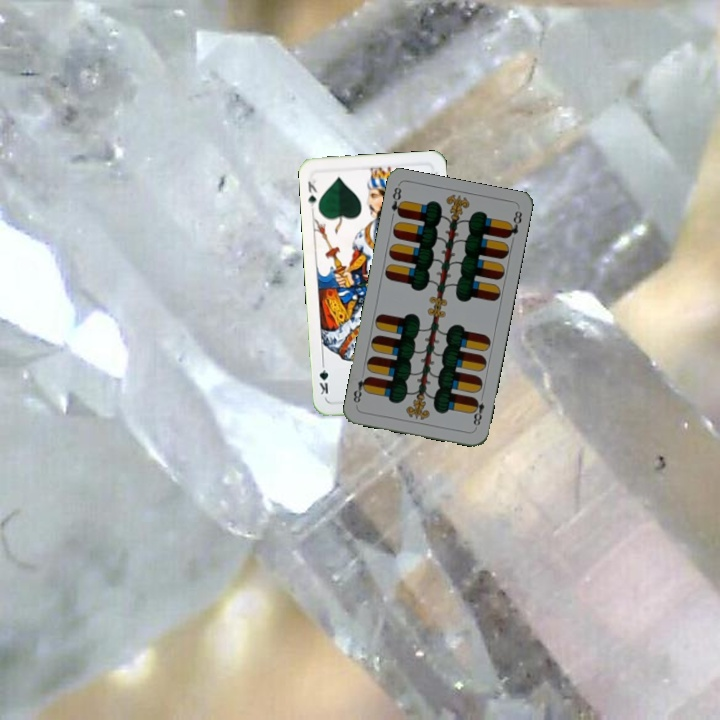E8: (387, 183, 406, 223), (468, 394, 487, 431)
GK: (304, 173, 320, 212)
